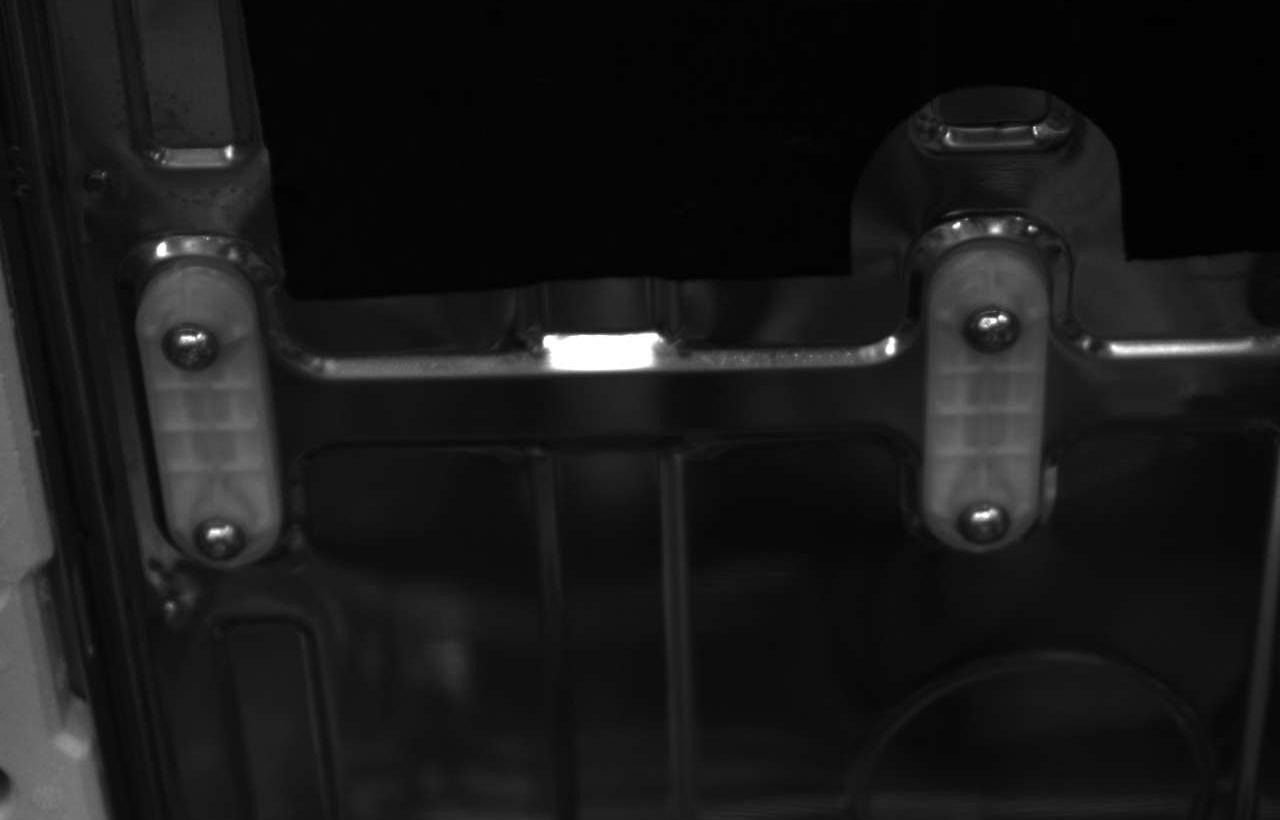vida-ok: (154, 317, 226, 381), (953, 485, 1019, 554), (959, 295, 1026, 362), (184, 507, 250, 565)
